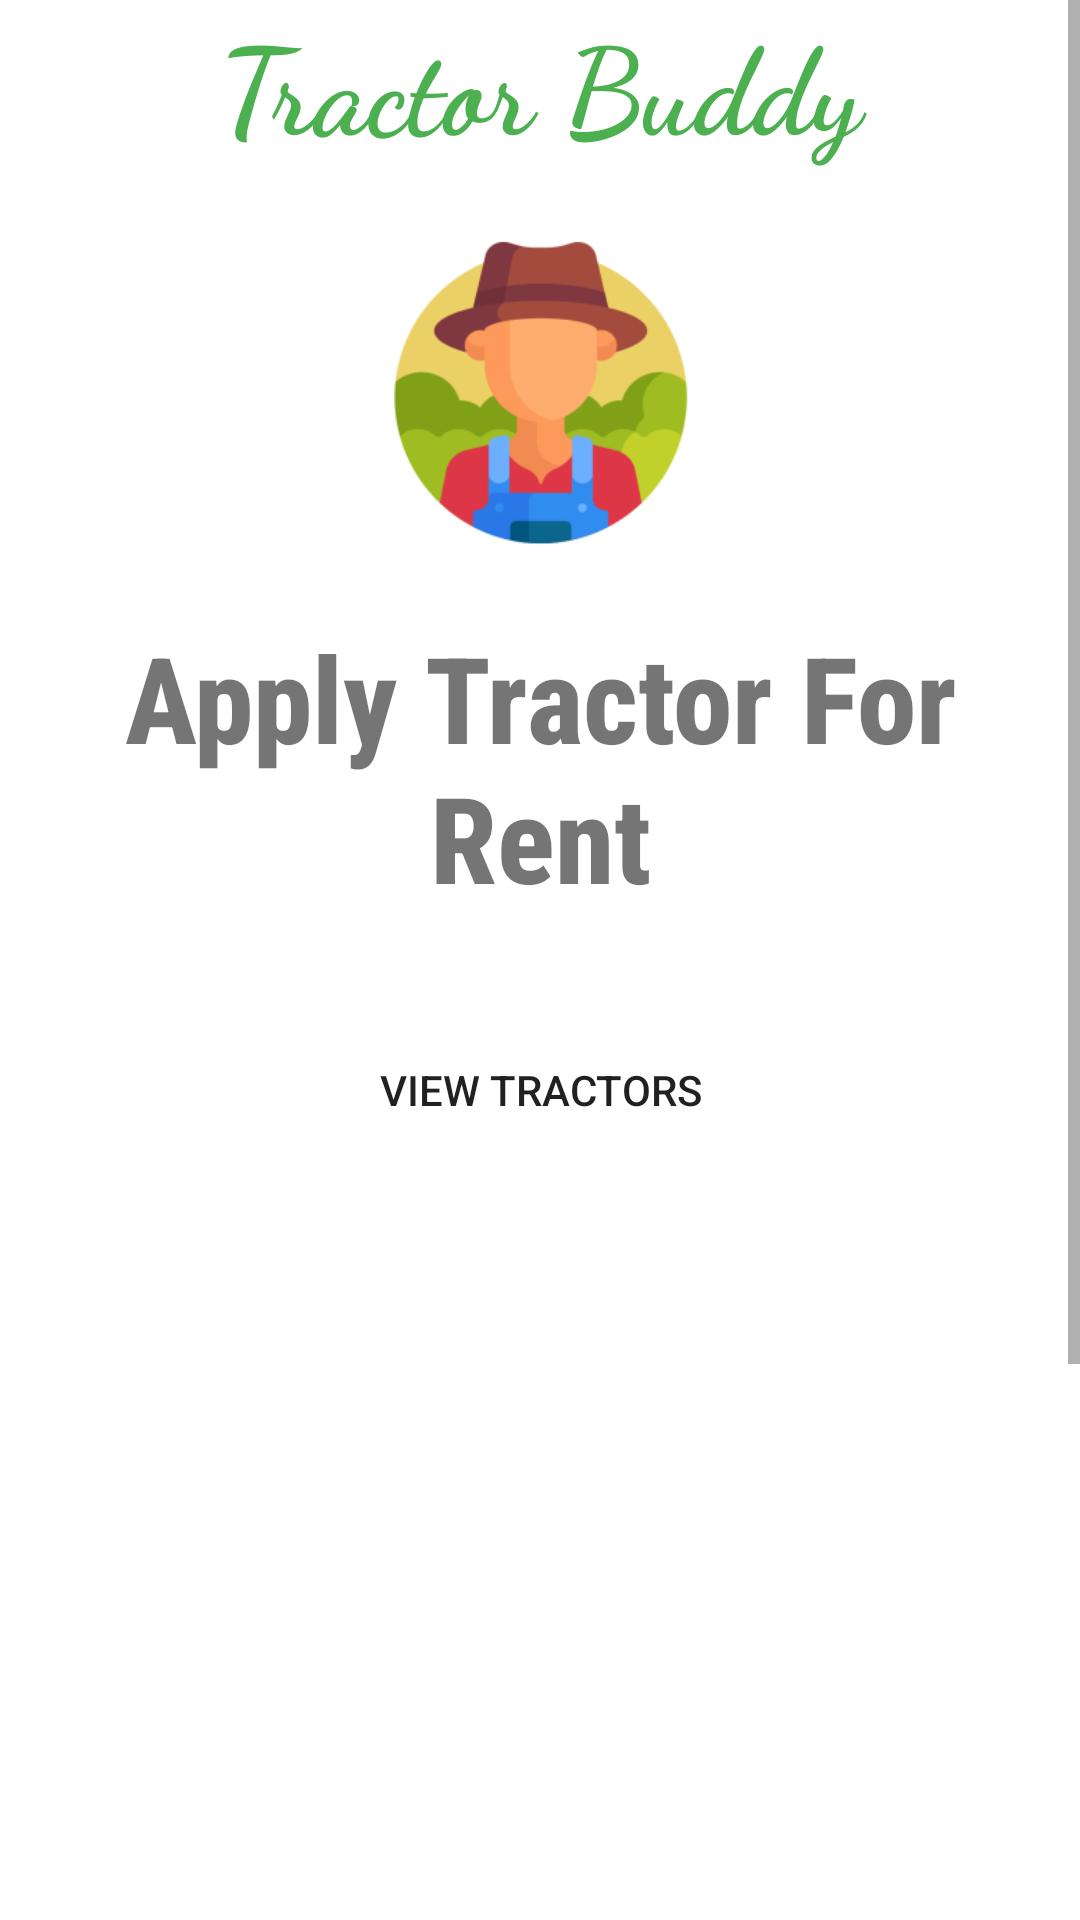

Named icons in this screenshot (1080*1920) and their centers, [x,y]:
farmerimg: [541,392]
